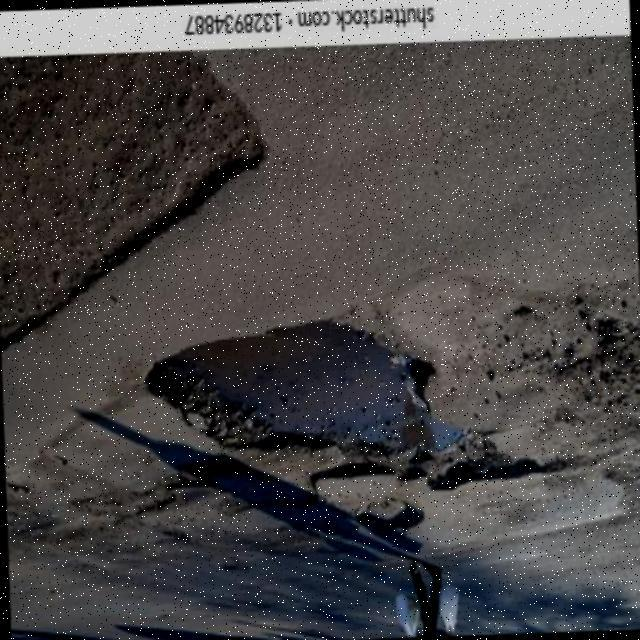Pothole: (144, 321, 545, 490), (355, 500, 424, 533)
